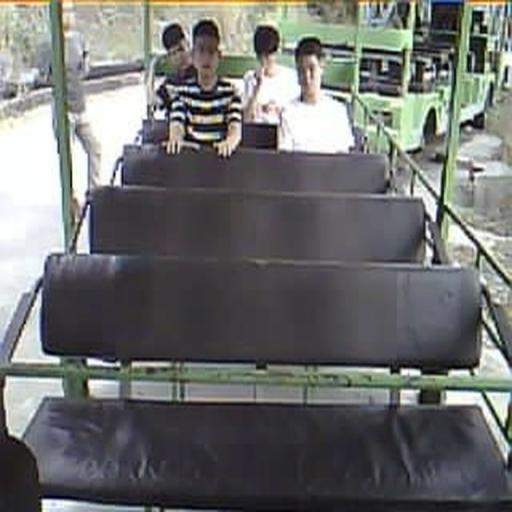persona: (162, 19, 244, 158), (274, 36, 356, 154), (241, 23, 300, 124), (147, 21, 193, 112)
